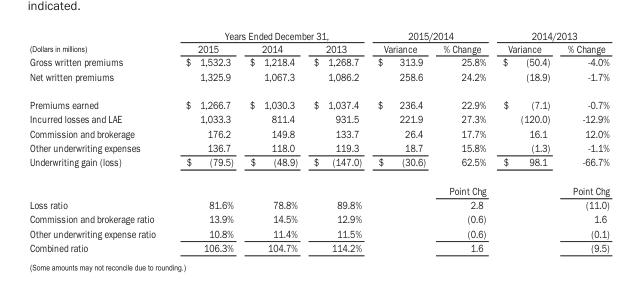table: (28, 28, 608, 253)
table column: (28, 28, 169, 253), (169, 28, 240, 253), (368, 28, 433, 253), (240, 28, 304, 253), (304, 28, 368, 253), (493, 28, 557, 253), (433, 28, 493, 253), (557, 28, 608, 253)
table column header: (28, 28, 608, 54)
table row: (28, 68, 608, 90), (28, 175, 608, 197), (28, 90, 608, 111), (28, 154, 608, 175), (28, 125, 608, 140), (28, 54, 608, 68), (28, 111, 608, 125), (28, 140, 608, 154), (28, 197, 608, 211), (28, 211, 608, 225), (28, 225, 608, 239), (28, 239, 608, 253), (28, 28, 608, 41), (28, 41, 608, 54)
table spanning cell: (28, 28, 169, 54), (169, 28, 368, 41), (368, 28, 493, 41), (493, 28, 608, 41)
